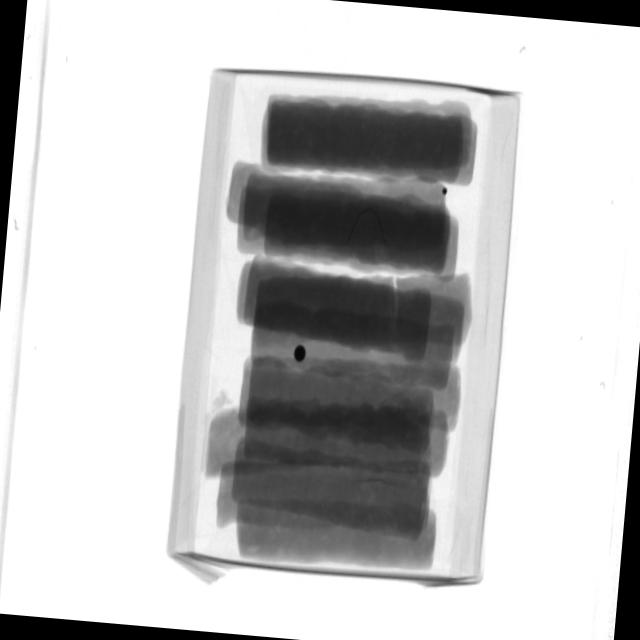ym: (294, 345, 307, 363), (442, 188, 449, 196)
